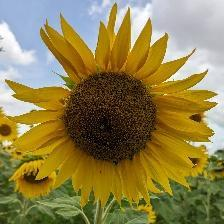sunflower: (7, 5, 220, 210), (13, 153, 59, 202), (185, 146, 210, 178), (1, 113, 21, 147), (186, 109, 210, 129), (209, 154, 224, 180), (141, 205, 157, 224)
